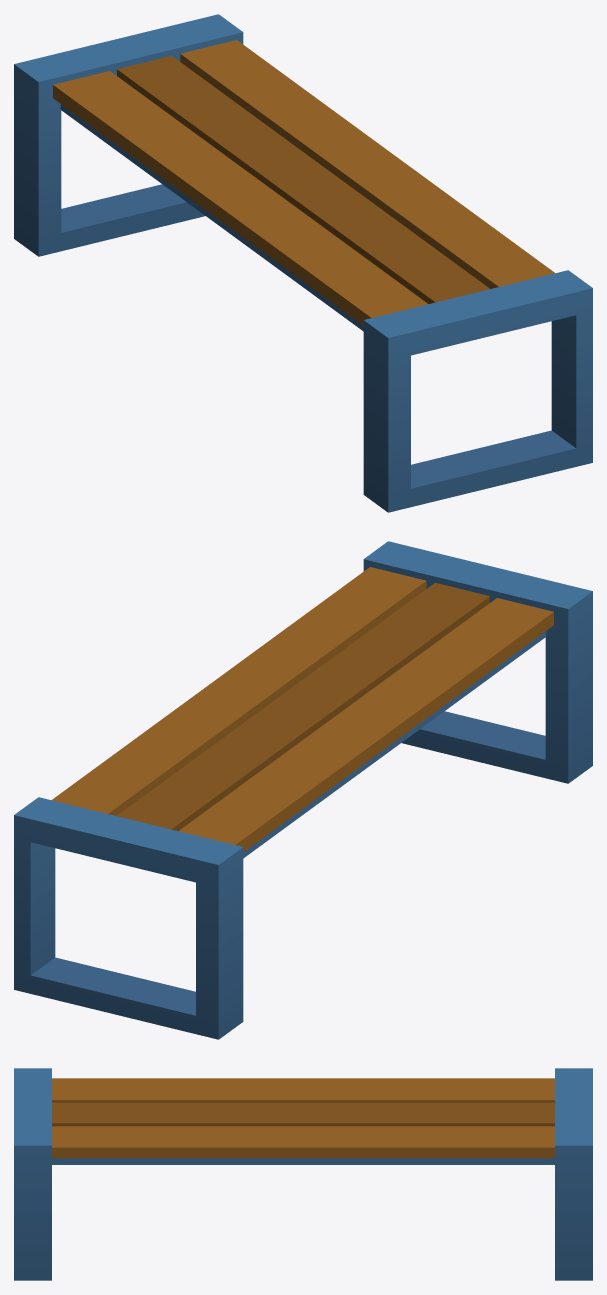
The model's file is Bench_4_C.fbx.
3 renders of one model, top to bottom at view 1: azimuth 30°, elevation 25°; view 2: azimuth 150°, elevation 25°; view 3: azimuth 270°, elevation 25°, orthographic. The views are drawn at different scales.
Parts seen in each view (by area): view 1: Bench_4_C; view 2: Bench_4_C; view 3: Bench_4_C.
Part boxes in pixels (box(x1,y1,x2,y2)): Bench_4_C: box(14, 14, 592, 512); Bench_4_C: box(14, 541, 592, 1039); Bench_4_C: box(14, 1068, 592, 1280).
Bounding box in the file's own units: 61.18 × 49.88 × 194.
